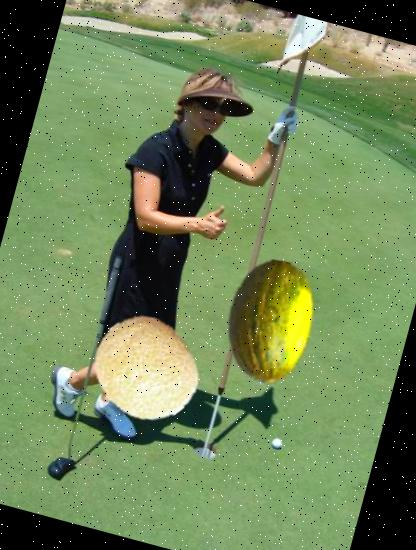Cantaloupe: (78, 304, 211, 437)
Melon: (193, 245, 347, 400)
